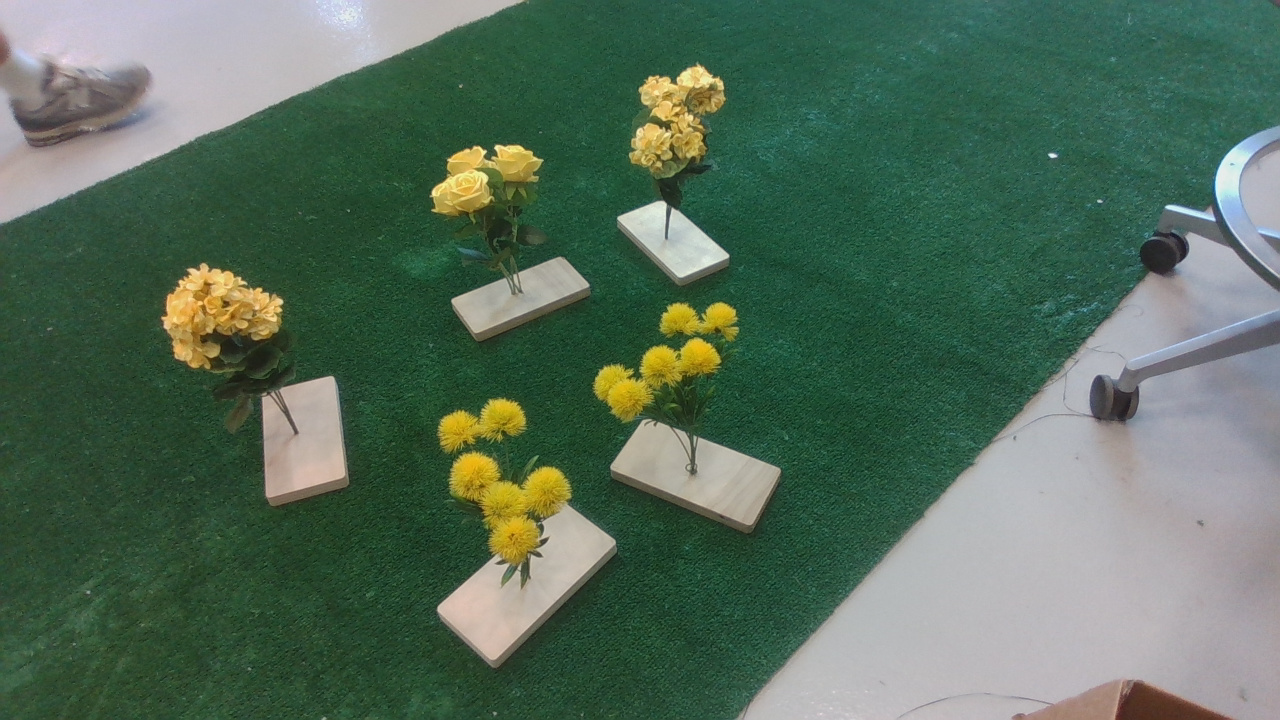dandelion: (416, 407, 583, 575), (595, 298, 761, 427)
geranium: (138, 270, 309, 397), (618, 63, 747, 198)
rose: (425, 139, 568, 252)
